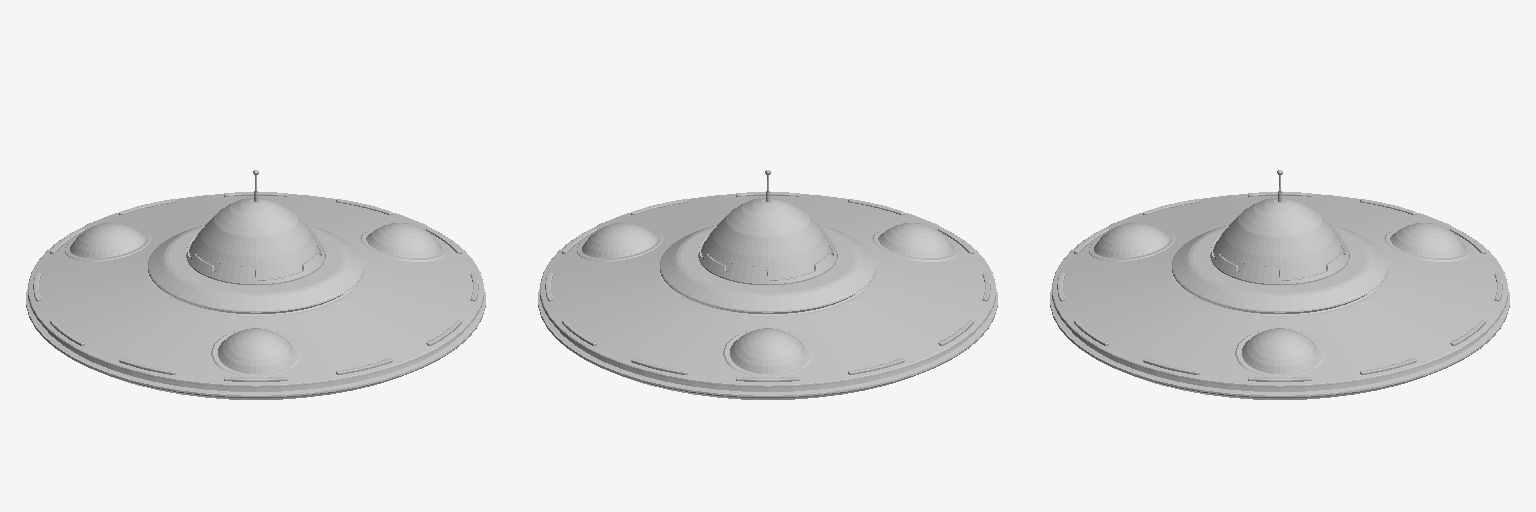
Rendered from UFO.obj.
3 views of the same model, side by side, from view 1: azimuth 30°, elevation 25°; view 2: azimuth 150°, elevation 25°; view 3: azimuth 270°, elevation 25° (orthographic).
Parts seen in each view (by area): view 1: node_id40; view 2: node_id40; view 3: node_id40.
Boxes of the visible parts, box(x1,y1,x2,y2) form: node_id40: box(26, 170, 485, 399); node_id40: box(538, 170, 997, 399); node_id40: box(1050, 170, 1509, 399).
Size of the model in its own units: 0.512 by 0.211 by 0.5111.